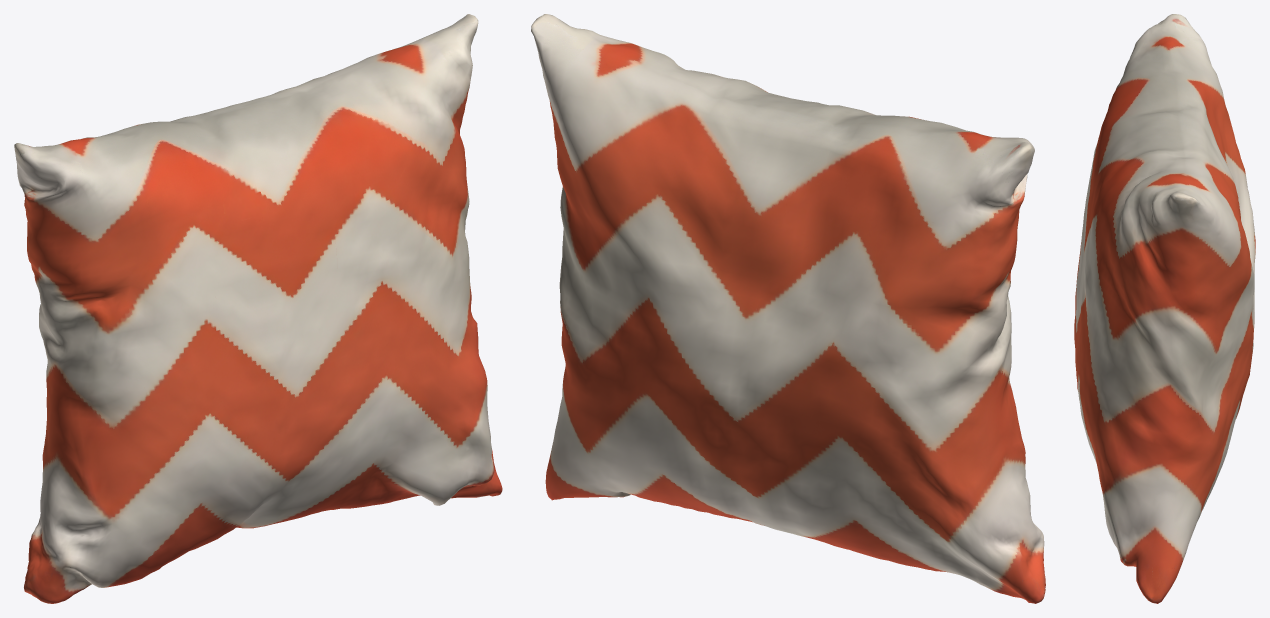
Rendered from Orange_Chevron_Pillow_15InchesTall_CouchTop_0222184355_texture.glb.
3 renders of one model, left to right at view 1: azimuth 30°, elevation 25°; view 2: azimuth 150°, elevation 25°; view 3: azimuth 270°, elevation 25°, orthographic. The views are drawn at different scales.
Visible parts, largest first — view 1: Mesh_0; view 2: Mesh_0; view 3: Mesh_0.
Boxes of the visible parts, bbox=[...] form: Mesh_0: bbox=[14, 14, 502, 603]; Mesh_0: bbox=[531, 14, 1045, 603]; Mesh_0: bbox=[1074, 14, 1255, 603].
Bounding box in the file's own units: 0.3473 × 0.3302 × 0.1334.
Materials: 1 (1 with a texture image).
